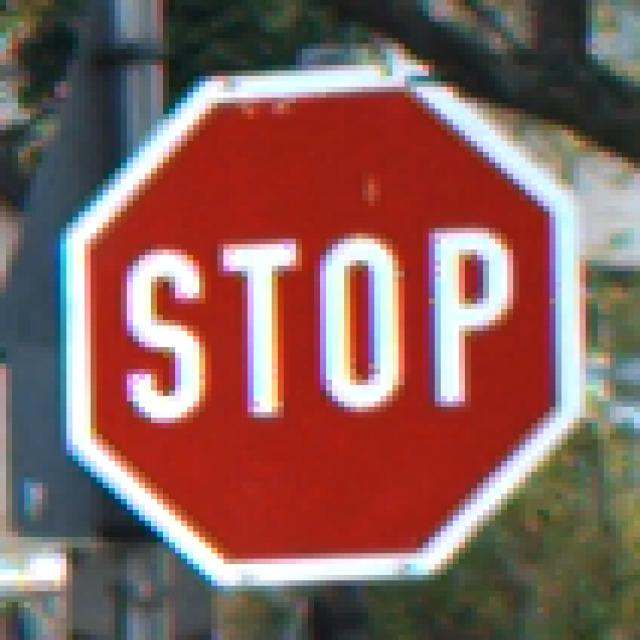STOP: (55, 61, 581, 587)
